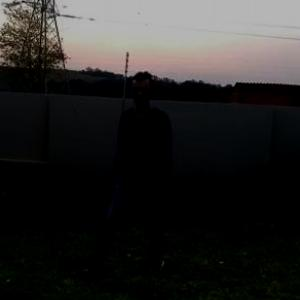follow: (118, 71, 185, 277)
